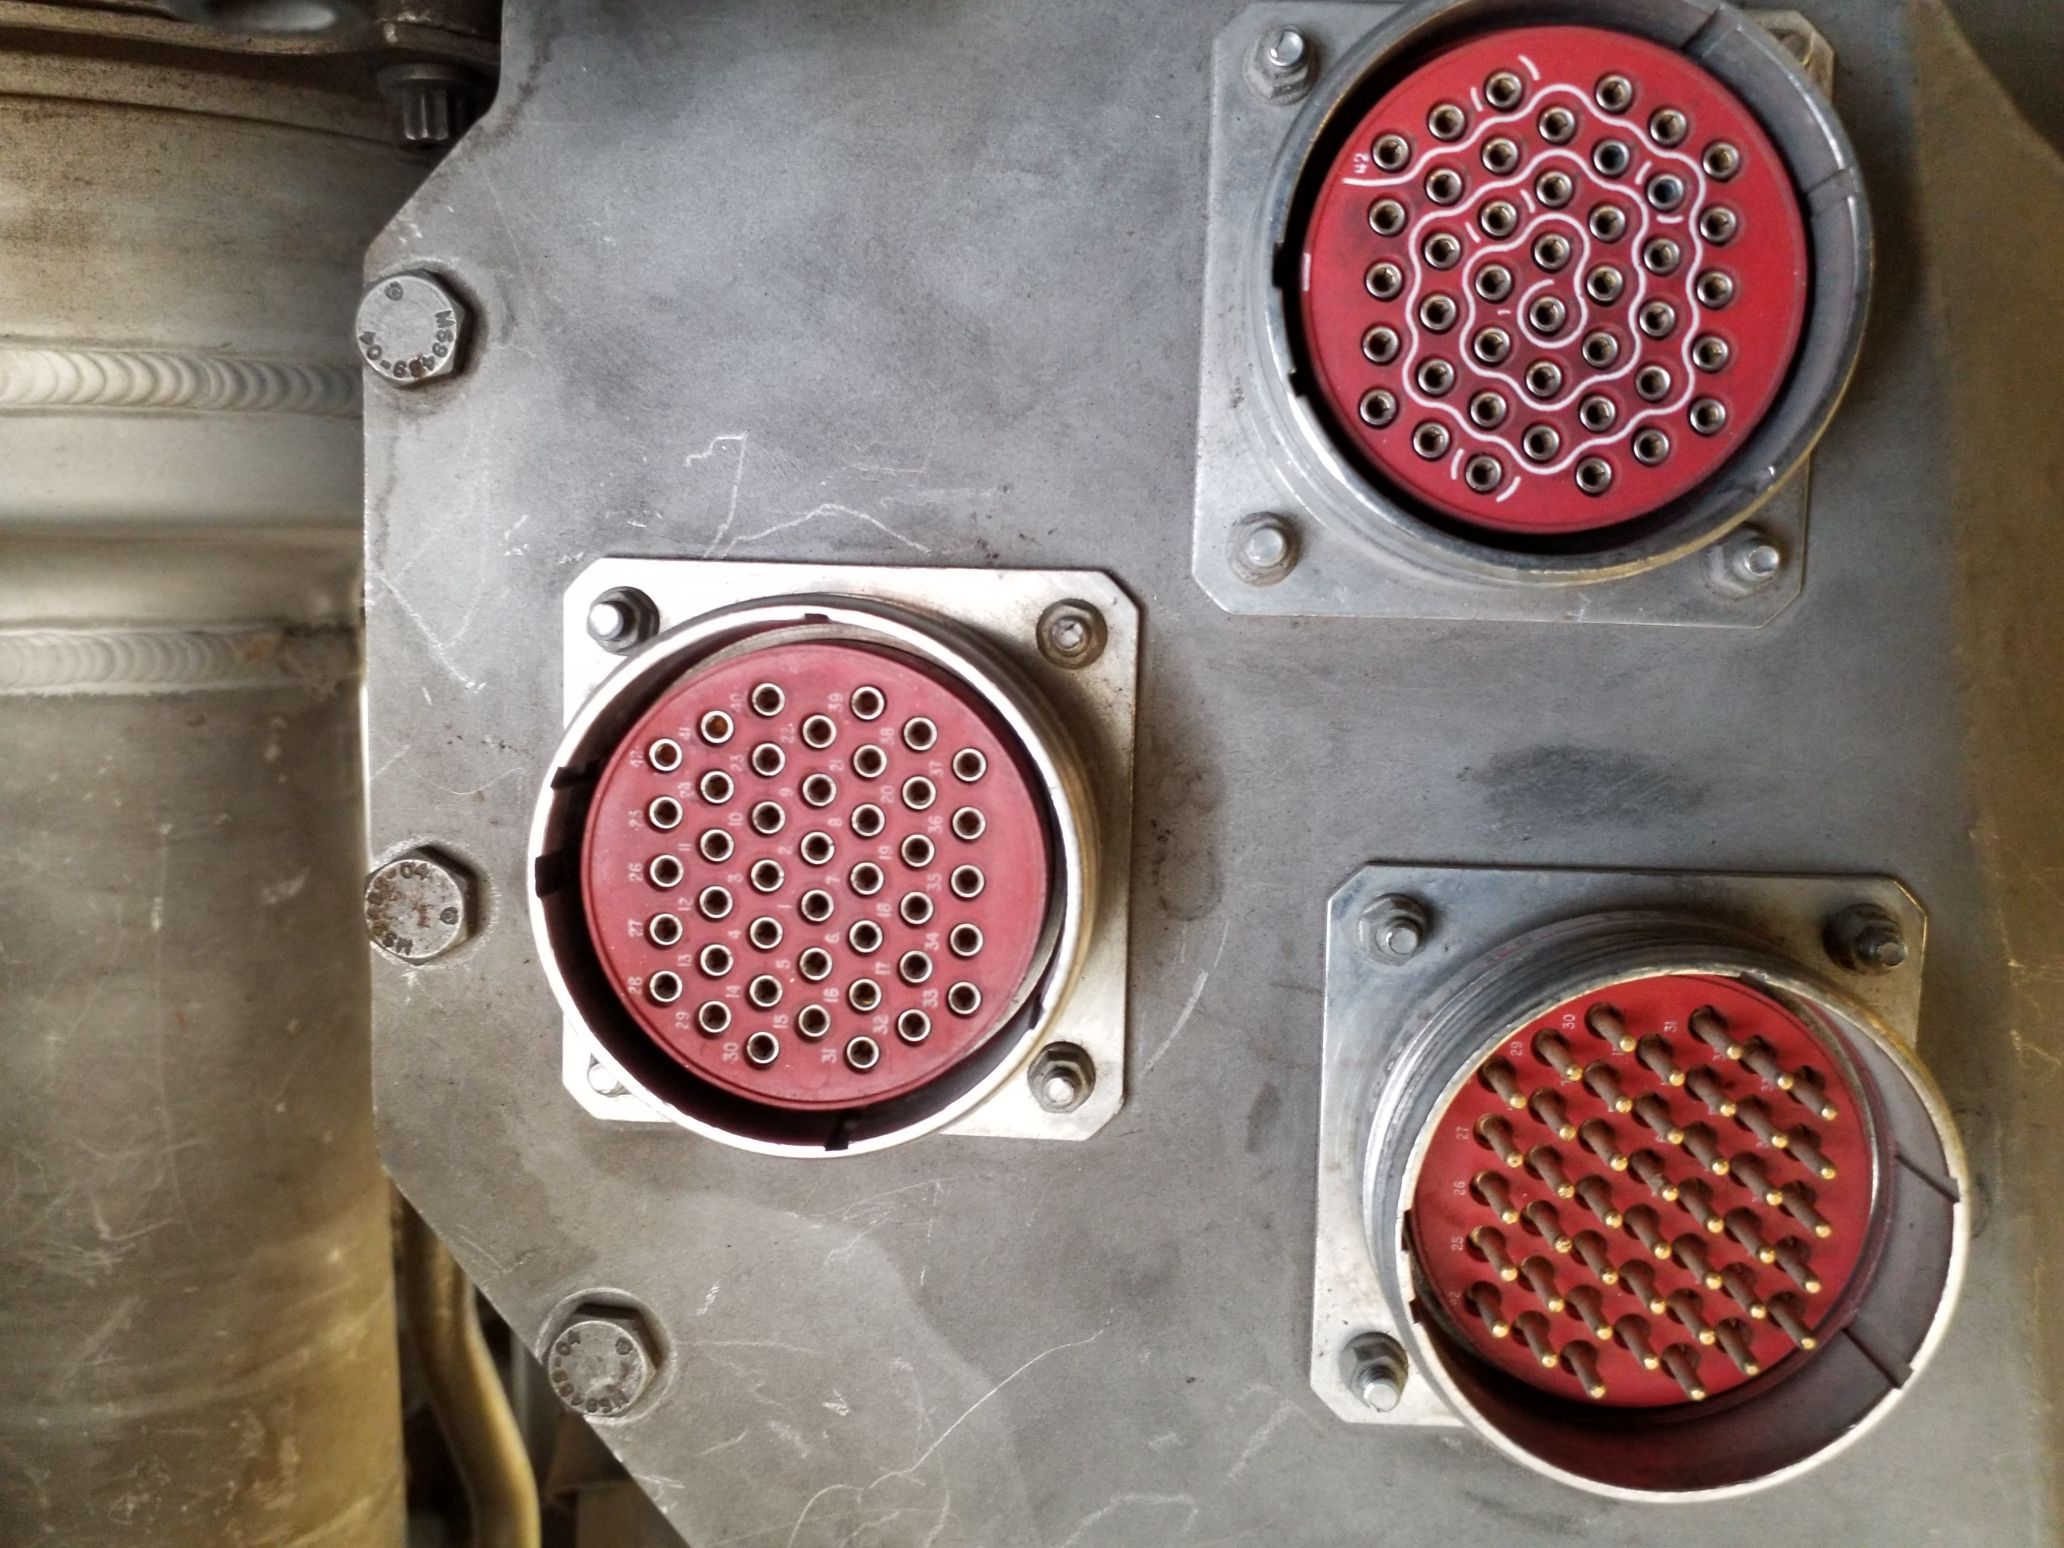inletnumbers: (535, 553, 1121, 1177)
inletround: (1211, 7, 1877, 594)
outlet: (1326, 868, 1988, 1506)
